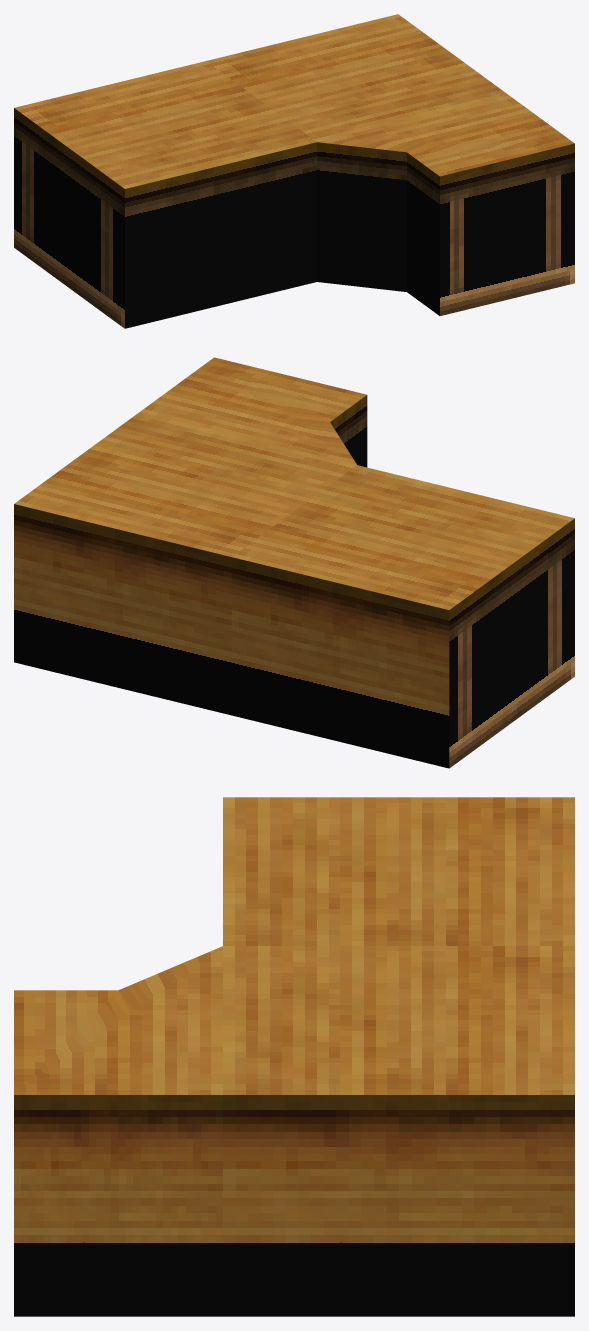
The picture shows the model from 3 angles, top to bottom: view 1: azimuth 30°, elevation 25°; view 2: azimuth 150°, elevation 25°; view 3: azimuth 270°, elevation 25°; orthographic projection. The views are drawn at different scales.
Parts seen in each view (by area): view 1: prim093-Line01; view 2: prim093-Line01; view 3: prim093-Line01.
Part boxes in pixels (bbox=[...]): prim093-Line01: bbox=[14, 14, 574, 328]; prim093-Line01: bbox=[14, 357, 574, 768]; prim093-Line01: bbox=[14, 797, 574, 1316].
Size of the model in its own units: 256 by 89 by 204.
1 material, 1 textured.
